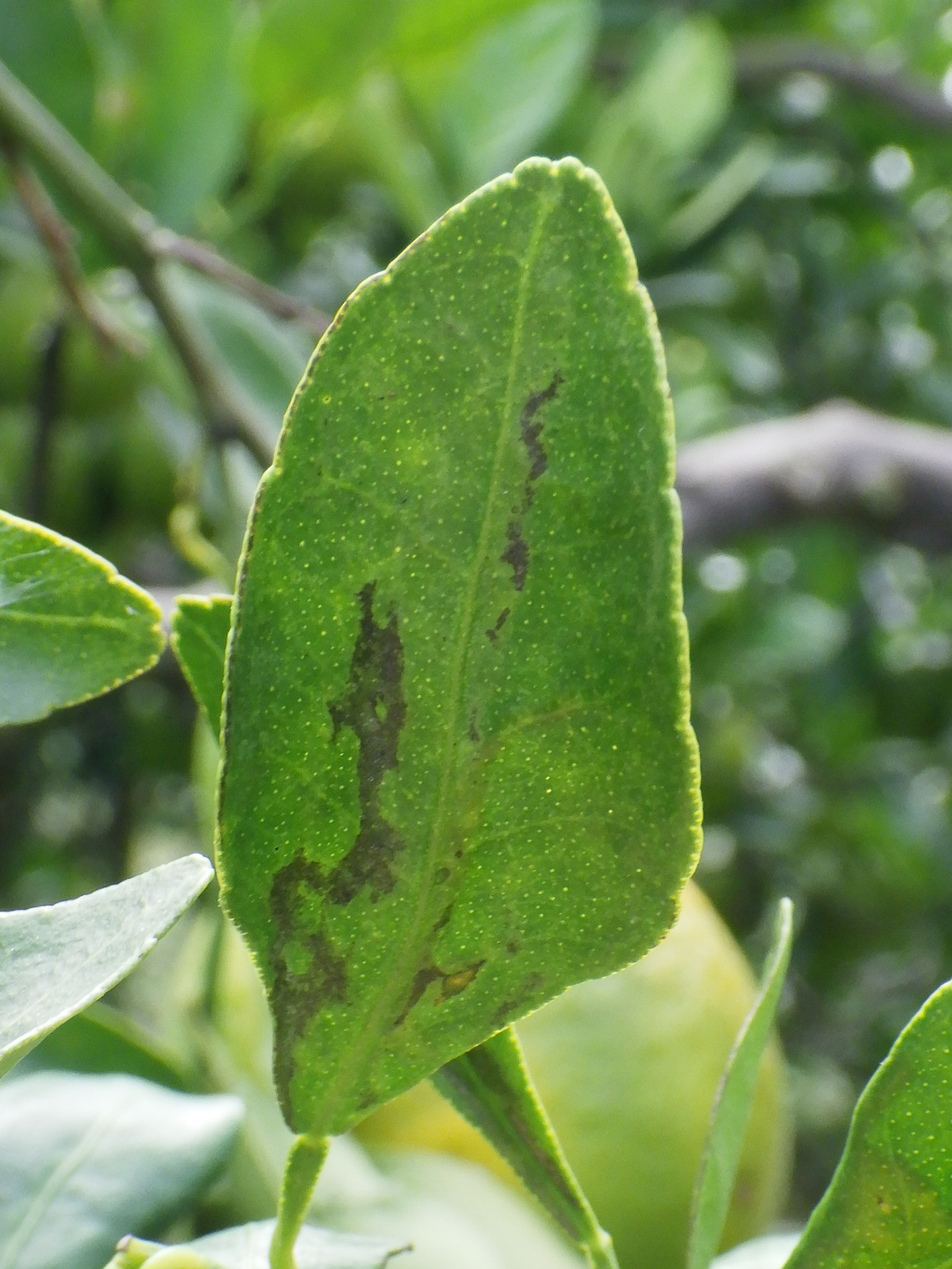Thrips_Damage: (269, 371, 562, 1110)
